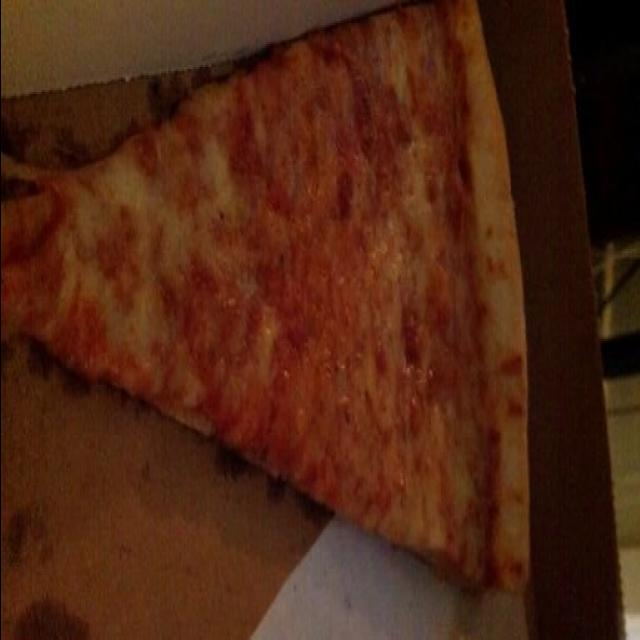pizza: (0, 0, 531, 596)
